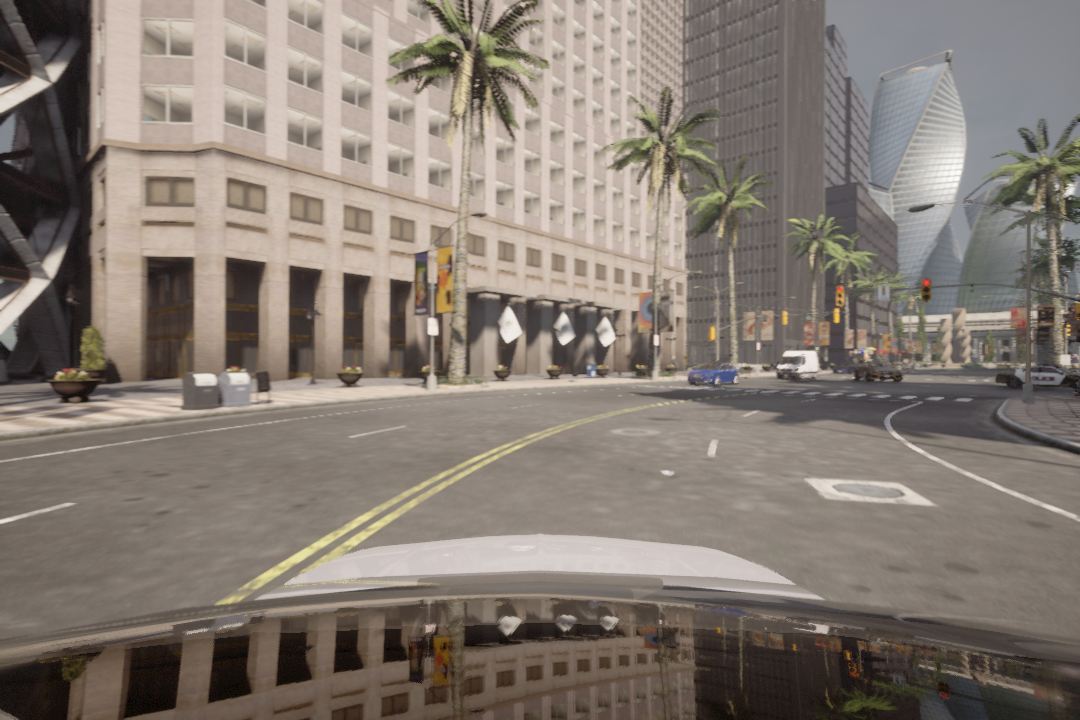TrafficLight: (921, 277, 932, 304), (834, 285, 844, 310)
walkside: (635, 384, 973, 406)
